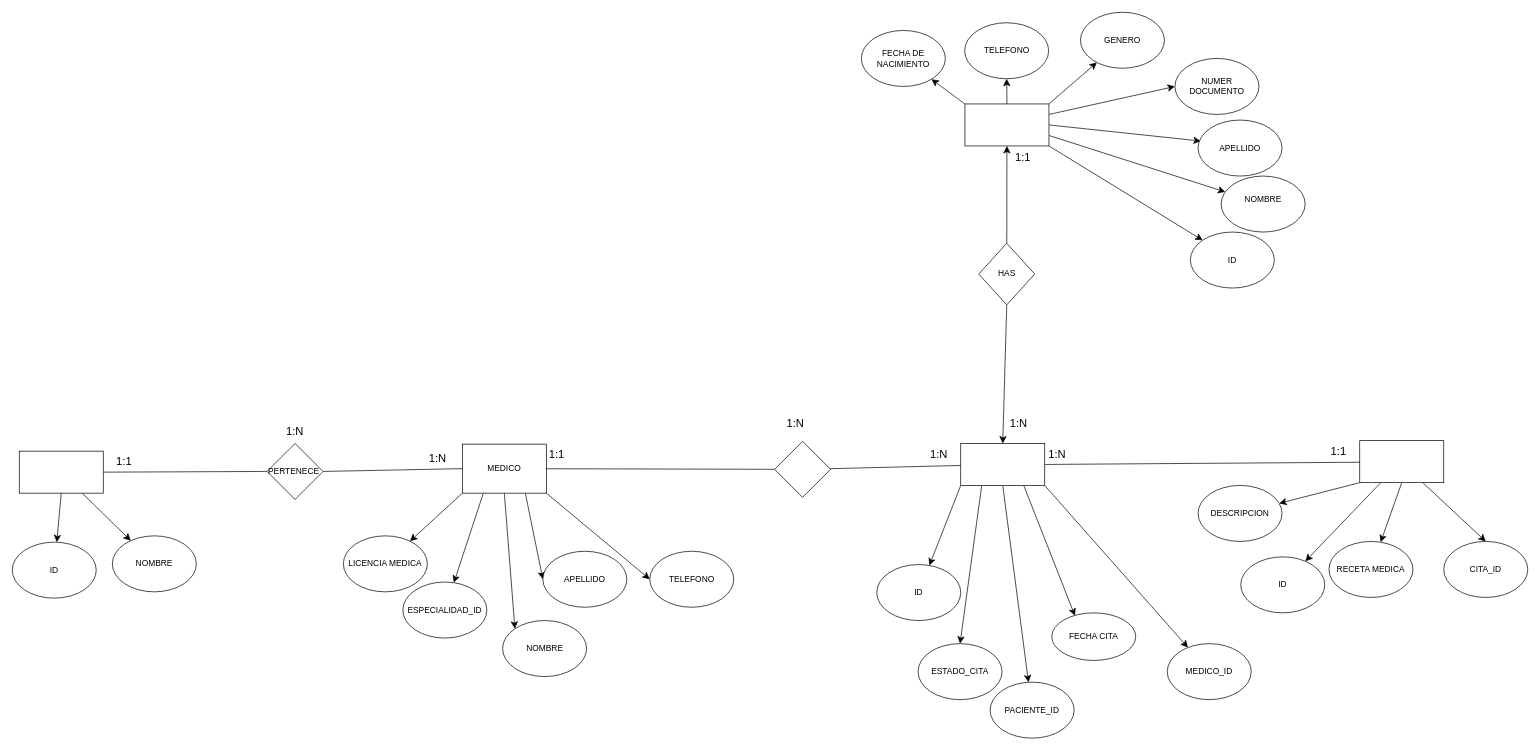
Image size: 1540x750. Some labels were removed from this diagram. The shapes that lost their labels are listed below. From the top down, each one's centre as x and y in pixels, then its label:
At [1006,124]: "PACIENTES".
At [61,471]: "ESPECIALIDAD".
At [802,469]: "TIENE".
At [1002,464]: "CITAS".
At [1401,461]: "DIAGNOSTICO".
